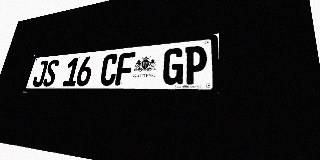1: (62, 57, 81, 86)
6: (75, 56, 94, 86)
C: (99, 53, 119, 86)
F: (115, 52, 136, 86)
G: (162, 47, 185, 85)
J: (31, 60, 49, 87)
P: (183, 45, 207, 85)
S: (42, 59, 60, 87)
